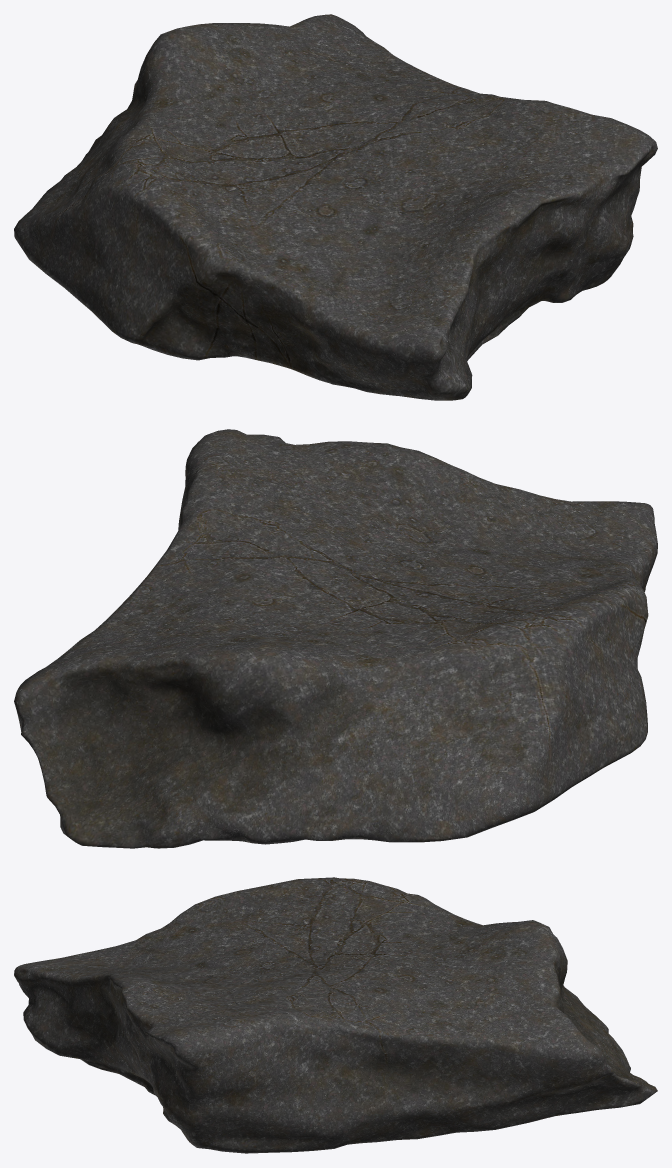
File: set2_rock_21.fbx
The picture shows the model from 3 angles, top to bottom: view 1: azimuth 30°, elevation 25°; view 2: azimuth 150°, elevation 25°; view 3: azimuth 270°, elevation 25°; orthographic projection. The views are drawn at different scales.
Visible parts, largest first — view 1: set2_rock_21; view 2: set2_rock_21; view 3: set2_rock_21.
Boxes of the visible parts, box(x1,y1,x2,y2) form: set2_rock_21: box(14, 14, 657, 400); set2_rock_21: box(14, 429, 657, 848); set2_rock_21: box(14, 877, 657, 1153).
Size of the model in its own units: 18.9 by 6.39 by 26.59.
1 material, 1 textured.
